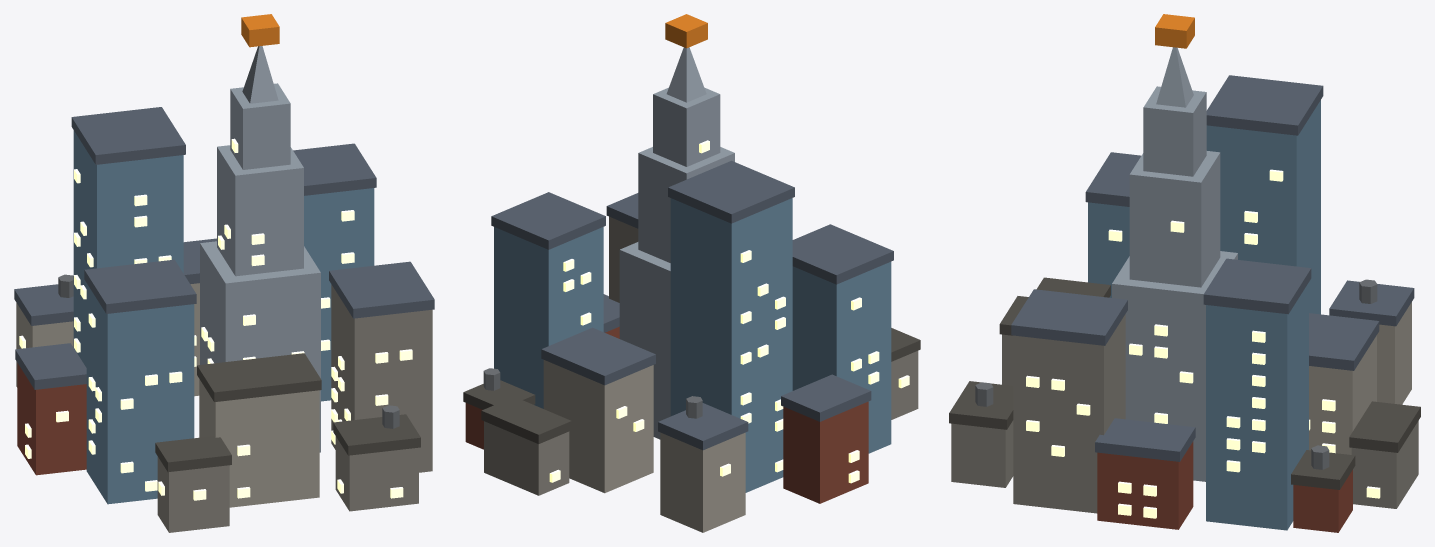
File: overworld-settlement-north-american-city.glb
3 views of the same model, side by side, from view 1: azimuth 30°, elevation 25°; view 2: azimuth 150°, elevation 25°; view 3: azimuth 270°, elevation 25° (orthographic). The views are drawn at different scales.
Parts seen in each view (by area): view 1: settlement; view 2: settlement; view 3: settlement.
Boxes of the visible parts, x1,y1,x2,y2 form: settlement: (14,14,434,532); settlement: (463,14,920,532); settlement: (949,14,1420,532).
Bounding box in the file's own units: 0.466 × 0.5107 × 0.5037.
